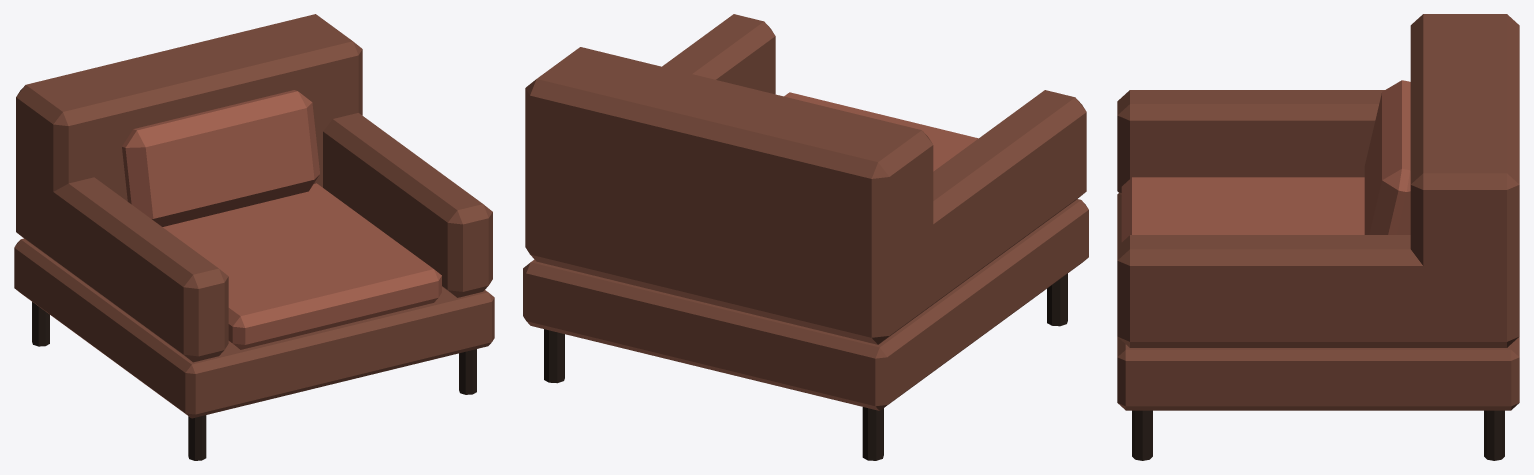
Rendered from armchair.fbx.
3 renders of one model, left to right at view 1: azimuth 30°, elevation 25°; view 2: azimuth 150°, elevation 25°; view 3: azimuth 270°, elevation 25°, orthographic. The views are drawn at different scales.
Visible parts, largest first — view 1: armchair; view 2: armchair; view 3: armchair.
Boxes of the visible parts, left/top/right/bottom form: armchair: left=14, top=14, right=494, bottom=460; armchair: left=523, top=14, right=1088, bottom=460; armchair: left=1117, top=14, right=1519, bottom=460.
Bounding box in the file's own units: 0.96 × 0.76 × 0.96.
